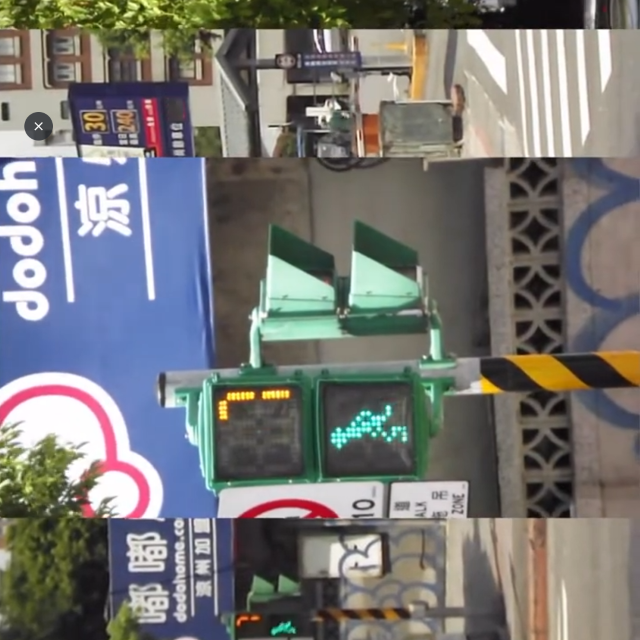green_light: (204, 380, 426, 484), (236, 614, 311, 636)
